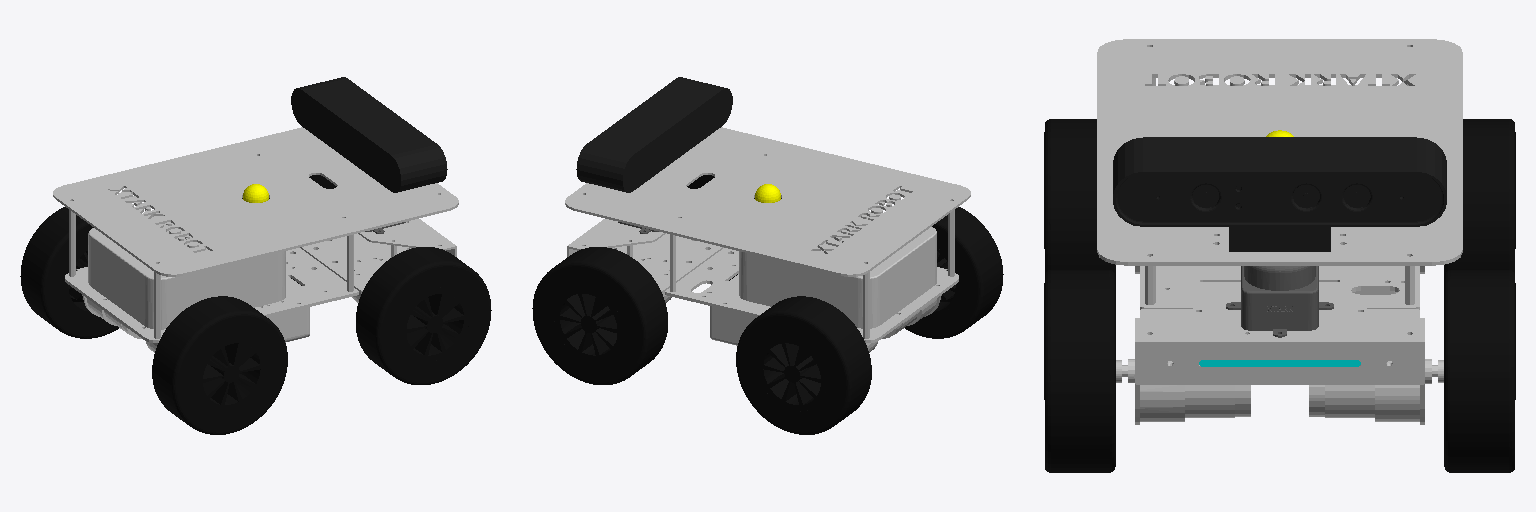
robot.urdf — tarkbot_robot:
<?xml version="1.0" encoding="utf-8"?>

<robot name="tarkbot_robot">

    <!-- 机器人底部中心原点 -->
    <link name="base_footprint">
        <visual>
            <geometry>
                <sphere radius="0.001" />
            </geometry>
        </visual>
    </link>

    <!-- 机器人底盘 -->
    <link name="base_link">
        <visual>
            <geometry>
                <mesh filename="package://tarkbot_description/meshes/base_r20_fwl2.stl" />
            </geometry>
            <origin xyz="0 0 0" rpy="0 0 0" />
            <material name="base_color">
                <!-- <color rgba="0.000 0.500 0.500 1" /> -->
                <!-- <color rgba="0.000 0.000 1.000 1" /> -->
                <!-- <color rgba="1.000 0.500 0.000 1" /> -->
                <color rgba="0.800 0.800 0.800 1" />
            </material>
        </visual>
    </link>    

    <!-- 机器人轮子 -->
    <link name="wheel_fl">
        <visual>
            <geometry>
                <mesh filename="package://tarkbot_description/meshes/wheel/w100.stl" />
            </geometry>
            <origin xyz="0 0 0" rpy="0 0 0" />
            <material name="wheel_color">
                <color rgba="0.1 0.1 0.1 1" />
            </material>
        </visual>
    </link>  

    <link name="wheel_fr">
        <visual>
            <geometry>
                <mesh filename="package://tarkbot_description/meshes/wheel/w100.stl" />
            </geometry>
            <origin xyz="0 0 0" rpy="0 0 0" />
            <material name="wheel_color">
                <color rgba="0.1 0.1 0.1 1" />
            </material>
        </visual>
    </link>  

    <link name="wheel_bl">
        <visual>
            <geometry>
                <mesh filename="package://tarkbot_description/meshes/wheel/w100.stl" />
            </geometry>
            <origin xyz="0 0 0" rpy="0 0 0" />
            <material name="wheel_color">
                <color rgba="0.1 0.1 0.1 1" />
            </material>
        </visual>
    </link>  

    <link name="wheel_br">
        <visual>
            <geometry>
                <mesh filename="package://tarkbot_description/meshes/wheel/w100.stl" />
            </geometry>
            <origin xyz="0 0 0" rpy="0 0 0" />
            <material name="wheel_color">
                <color rgba="0.1 0.1 0.1 1" />
            </material>
        </visual>
    </link>  

    <!-- 机器人雷达 -->
    <link name="laser_link">
        <visual>
            <geometry>
                <mesh filename="package://tarkbot_description/meshes/laser_d300.stl" />
            </geometry>
            <origin xyz="0 0 -0.028" rpy="0 0 0" />
            <material name="laser_color">
                <color rgba="0.4 0.4 0.4 1" />
            </material>
        </visual>
    </link> 

    <!-- 机器人摄像头 -->
    <link name="camera_link">
        <visual>
            <geometry>
                <mesh filename="package://tarkbot_description/meshes/depthcamera.stl" />
            </geometry>
            <origin xyz="-0.037 0 0" rpy="0 0 0" />
            <material name="camera_color">
                <color rgba="0.15 0.15 0.15 1" />
            </material>
        </visual>
    </link>

    <!-- 机器人IMU传感器 -->
    <link name="imu_link">
        <visual>
            <geometry>
                <sphere radius="0.010" />
            </geometry>
            <origin xyz="0 0 0" rpy="0 0 0" />
            <material name="imu_color">
                <color rgba="1 1 0 1" />
            </material>
        </visual>
    </link>

    <!-- 机器人前灯 -->
    <link name="light_link">
        <visual>
            <geometry>
                <mesh filename="package://tarkbot_description/meshes/light.stl" />
            </geometry>
            <origin xyz="0 0 0" rpy="0 0 0" />
            <material name="light_color">
                <color rgba="0.0 1.0 1.0 1" />
            </material>
        </visual>
    </link>

    <!-- 底盘与原点连接的关节 -->
    <joint name="baselink2footprint" type="fixed">
        <origin xyz="0 0 0.1255" rpy="0 0 0"/>
        <parent link="base_footprint" />
        <child  link="base_link" />
    </joint>

        <!-- 轮子到与底盘连接的关节 -->
    <joint name="wheelfl2base" type="fixed">
        <origin xyz="0.088 0.096 -0.079" rpy="0 0 1.57"/>
        <parent link="base_link" />
        <child  link="wheel_fl" />
    </joint>

    <joint name="wheelfr2base" type="fixed">
        <origin xyz="0.088 -0.096 -0.079" rpy="0 0 -1.57"/>
        <parent link="base_link" />
        <child  link="wheel_fr" />
    </joint>

    <joint name="wheelbl2base" type="fixed">
        <origin xyz="-0.088 0.096 -0.079" rpy="0 0 1.57"/>
        <parent link="base_link" />
        <child  link="wheel_bl" />
    </joint>

    <joint name="wheelbr2base" type="fixed">
        <origin xyz="-0.088 -0.096 -0.079" rpy="0 0 -1.57"/>
        <parent link="base_link" />
        <child  link="wheel_br" />
    </joint>

    <!-- 雷达到与底盘连接的关节 -->
    <joint name="laser2base" type="fixed">
        <origin xyz="0.1021 0 -0.0125" rpy="0 0 0"/>
        <parent link="base_link" />
        <child  link="laser_link" />
    </joint>

    <!-- 深度摄像头与底盘连接的关节 -->
    <joint name="camera2base" type="fixed">
        <origin xyz="0.115 0 0.0285" rpy="0 0 0"/>
        <parent link="base_link" />
        <child  link="camera_link" />
    </joint>

    <!-- IMU传感器与底盘连接的关节 -->
    <joint name="imu2base" type="fixed">
        <origin xyz="0 0 0" rpy="0 0 0"/>
        <parent link="base_link" />
        <child  link="imu_link" />
    </joint>

    <!-- 前灯与底盘连接的关节 -->
    <joint name="light2base" type="fixed">
        <origin xyz="0.132 0 -0.054 " rpy="0 0 0"/>
        <parent link="base_link" />
        <child  link="light_link" />
    </joint>

</robot>

--- Facts derived from the render (not from the file) ---
Views: 3 orthographic renders of the robot side by side, from view 1: azimuth 30°, elevation 25°; view 2: azimuth 150°, elevation 25°; view 3: azimuth 270°, elevation 25°.
Model tarkbot_robot with 10 links and 9 joints (9 fixed), rooted at base_footprint, posed all joints at 0.
Links seen in each view (by area): view 1: base_link, wheel_br, wheel_fr, camera_link, wheel_bl; view 2: base_link, wheel_bl, wheel_fl, camera_link, wheel_br; view 3: base_link, camera_link, wheel_fl, wheel_fr, wheel_bl, wheel_br, laser_link, light_link.
Link boxes in pixels (left/top/right/bottom): base_link: left=53, top=127, right=458, bottom=352; wheel_br: left=152, top=296, right=287, bottom=434; wheel_fr: left=356, top=247, right=491, bottom=384; camera_link: left=291, top=77, right=447, bottom=192; wheel_bl: left=20, top=207, right=118, bottom=338; base_link: left=565, top=127, right=970, bottom=352; wheel_bl: left=736, top=296, right=871, bottom=434; wheel_fl: left=532, top=247, right=667, bottom=384; camera_link: left=576, top=77, right=732, bottom=192; wheel_br: left=905, top=207, right=1003, bottom=338; base_link: left=1097, top=39, right=1462, bottom=424; camera_link: left=1113, top=137, right=1446, bottom=251; wheel_fl: left=1444, top=270, right=1515, bottom=472; wheel_fr: left=1044, top=270, right=1115, bottom=472; wheel_bl: left=1444, top=119, right=1515, bottom=275; wheel_br: left=1044, top=119, right=1115, bottom=275; laser_link: left=1226, top=266, right=1333, bottom=337; light_link: left=1199, top=360, right=1360, bottom=366.
Bounding box of the posed robot: 0.276 × 0.2321 × 0.1725 m (x, y, z).
8 mesh visuals loaded from 5 distinct referenced files (5 binary STL).